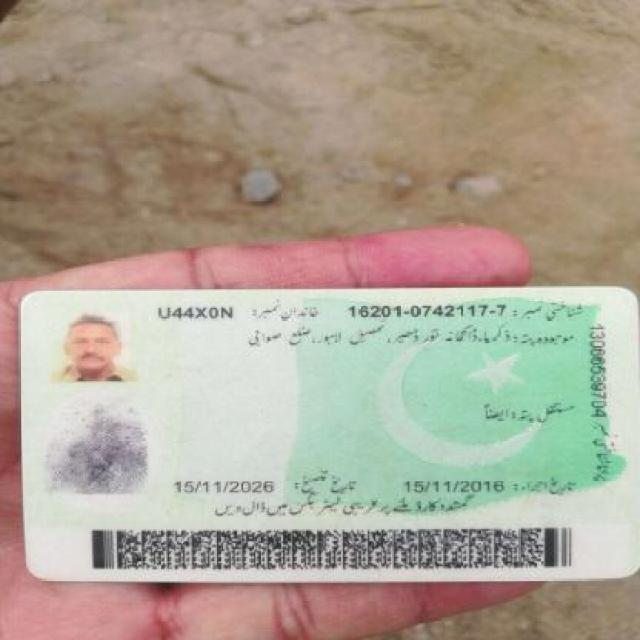Back: (12, 283, 634, 580)
